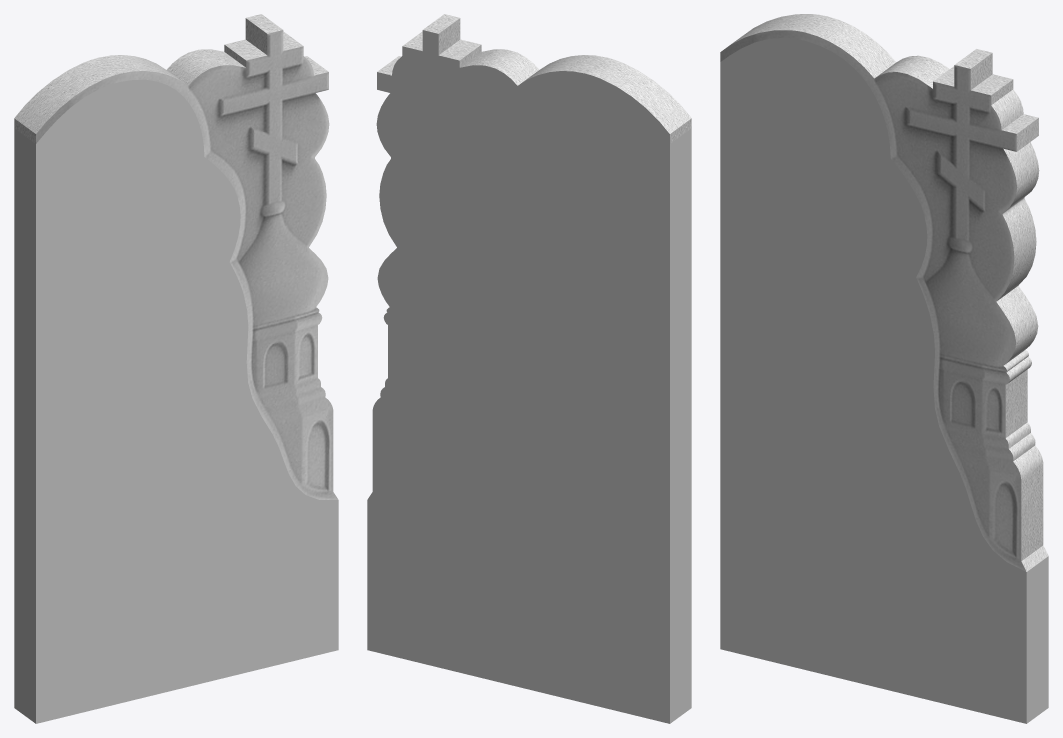
Rendered from cn1493ac0c7d_tkf.glb.
3 views of the same model, side by side, from view 1: azimuth 30°, elevation 25°; view 2: azimuth 150°, elevation 25°; view 3: azimuth 330°, elevation 25° (orthographic).
Parts seen in each view (by area): view 1: Pam-d03-213, Pam-d03-213_2_notexture; view 2: Pam-d03-213, Pam-d03-213_2_notexture; view 3: Pam-d03-213, Pam-d03-213_2_notexture.
Part boxes in pixels (left/top/right/bottom): Pam-d03-213: left=14, top=79, right=338, bottom=723; Pam-d03-213_2_notexture: left=14, top=14, right=338, bottom=499; Pam-d03-213: left=367, top=30, right=691, bottom=723; Pam-d03-213_2_notexture: left=377, top=14, right=691, bottom=307; Pam-d03-213: left=720, top=37, right=1048, bottom=723; Pam-d03-213_2_notexture: left=720, top=14, right=1048, bottom=571.
Bounding box in the file's own units: 0.4 × 0.8 × 0.05.
Materials: 1 (1 with a texture image).
